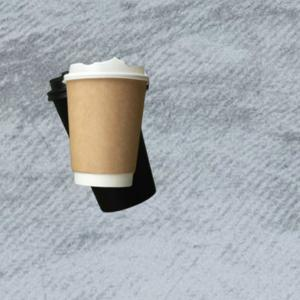cup: (63, 58, 150, 190)
